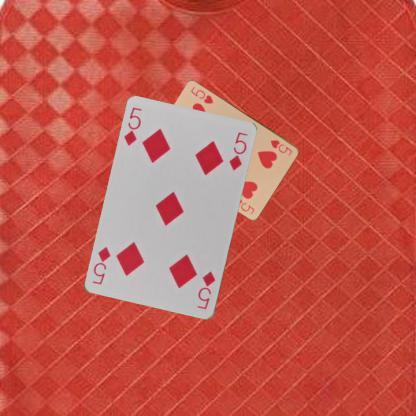5d: (121, 104, 144, 147), (195, 269, 217, 311)
5h: (268, 137, 294, 157)
